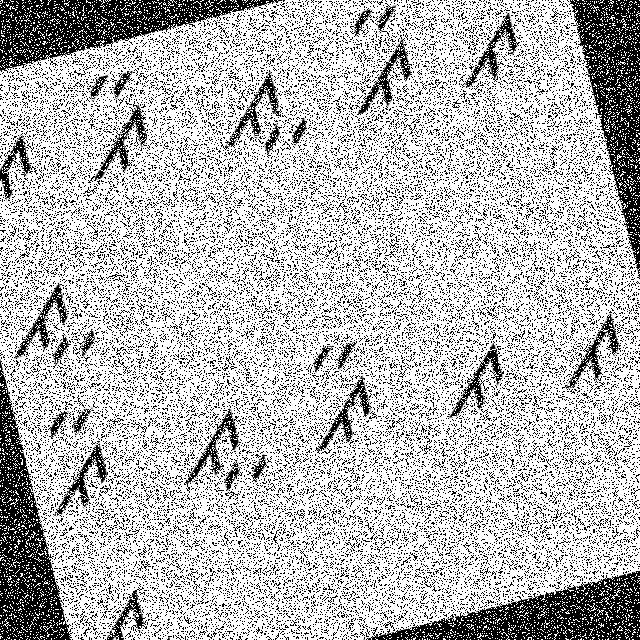ka: (414, 328, 522, 444), (438, 0, 533, 106), (542, 297, 639, 397), (0, 115, 52, 228)
kah: (194, 54, 320, 174), (158, 388, 276, 508), (0, 261, 105, 384), (67, 573, 188, 639)
kan: (50, 59, 172, 190), (22, 388, 132, 526), (284, 327, 394, 458), (321, 0, 432, 123)
